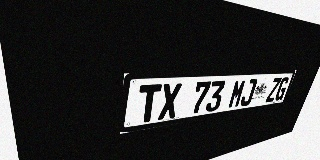3: (205, 80, 226, 112)
7: (189, 81, 211, 115)
G: (274, 77, 290, 101)
J: (239, 79, 258, 107)
M: (227, 79, 247, 109)
T: (136, 84, 162, 124)
X: (158, 83, 182, 120)
Z: (265, 77, 282, 103)
